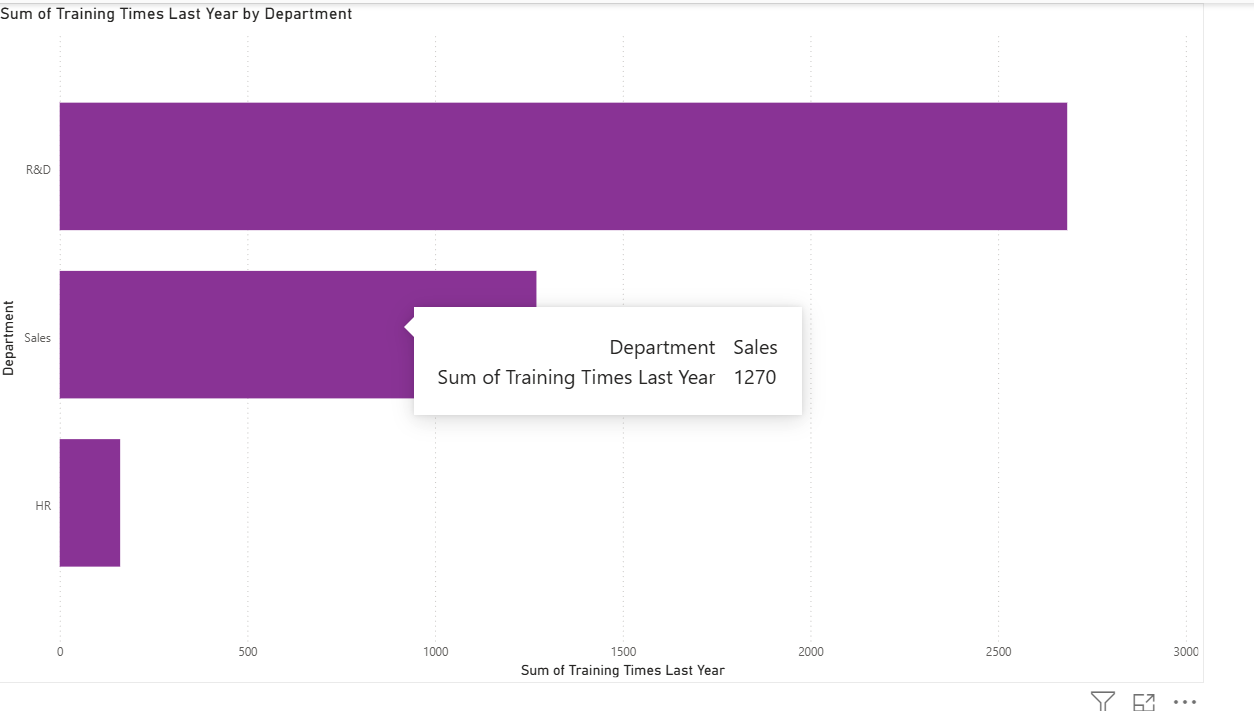

This screenshot's page, from the dashboard's own definition file:
{"tool":"powerbi","page":{"name":"count by cfage band","canvas":[1280,720],"ordinal":7},"visuals":[{"type":"barChart","fields":{"Category":["HR.Department"],"Y":["Sum(HR.Training Times Last Year)"]},"box":[0,0,1219.8,685.7],"z":0}]}

Visuals, with their boxes in screenshot pixels (x1, y1, x2, y2), scaled from the page's 1280x720 canvas onto the 1254x711 screenshot:
barChart - HR.Department x Sum(HR.Training Times Last Year): [0,0,1195,677]
